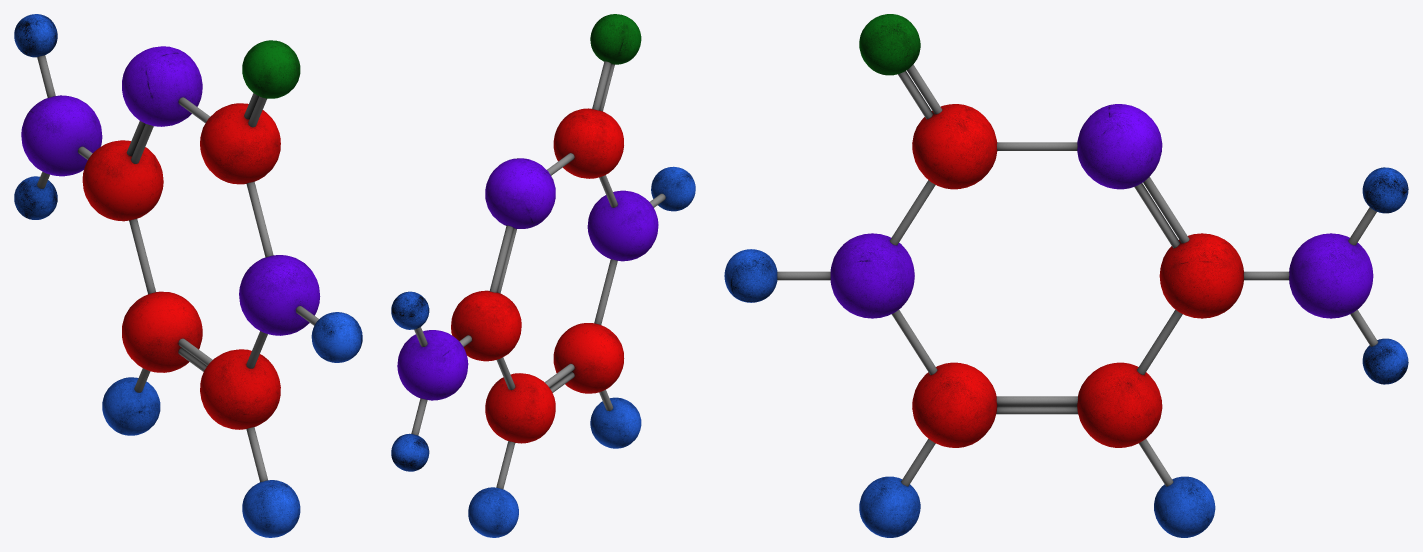
File: moleculeModel.glb
3 views of the same model, side by side, from view 1: azimuth 30°, elevation 25°; view 2: azimuth 150°, elevation 25°; view 3: azimuth 270°, elevation 25° (orthographic). The views are drawn at different scales.
Parts seen in each view (by area): view 1: Cube.002, Cube.001, Cube.009, Cube.006, Cube.013, Cube.008, Cube.010, Cube.004, Cube.005, Cube.011, Cube.003, Cube.007 (+4 smaller); view 2: Cube.009, Cube.002, Cube.006, Cube.010, Cube.008, Cube.013, Cube.001, Cube.011, Cube.004, Cube.005, Cube.003, Cube.007 (+5 smaller); view 3: Cube.009, Cube.002, Cube.010, Cube.006, Cube.001, Cube.013, Cube.008, Cube.004, Cube.005, Cube.011, Cube.003, Cube.007 (+3 smaller).
Boxes of the visible parts, box(x1,y1,x2,y2) form: Cube.002: box(239, 255, 320, 335); Cube.001: box(200, 349, 280, 429); Cube.009: box(122, 46, 202, 126); Cube.006: box(21, 95, 102, 176); Cube.013: box(82, 140, 163, 221); Cube.008: box(200, 103, 280, 184); Cube.010: box(122, 291, 202, 372); Cube.004: box(242, 40, 300, 98); Cube.005: box(242, 480, 300, 537); Cube.011: box(102, 377, 160, 435); Cube.003: box(311, 312, 362, 362); Cube.007: box(14, 14, 57, 57); Cube.009: box(485, 158, 555, 228); Cube.002: box(587, 190, 658, 261); Cube.006: box(397, 330, 468, 400); Cube.010: box(485, 373, 555, 443); Cube.008: box(553, 108, 623, 178); Cube.013: box(451, 290, 521, 361); Cube.001: box(553, 323, 624, 393); Cube.011: box(468, 487, 518, 537); Cube.004: box(590, 14, 641, 64); Cube.005: box(590, 397, 641, 448); Cube.003: box(651, 166, 695, 211); Cube.007: box(391, 291, 429, 329); Cube.009: box(1077, 104, 1162, 189); Cube.002: box(830, 233, 914, 318); Cube.010: box(1077, 362, 1162, 447); Cube.006: box(1289, 233, 1373, 318); Cube.001: box(912, 362, 997, 447); Cube.013: box(1159, 233, 1243, 318); Cube.008: box(912, 104, 997, 189); Cube.004: box(859, 14, 920, 75); Cube.005: box(859, 476, 920, 537); Cube.011: box(1154, 476, 1215, 537); Cube.003: box(724, 249, 777, 302); Cube.007: box(1362, 167, 1408, 213).
Size of the model in its own units: 1.7 by 11.44 by 13.69.
Materials: 1 (1 with a texture image).
